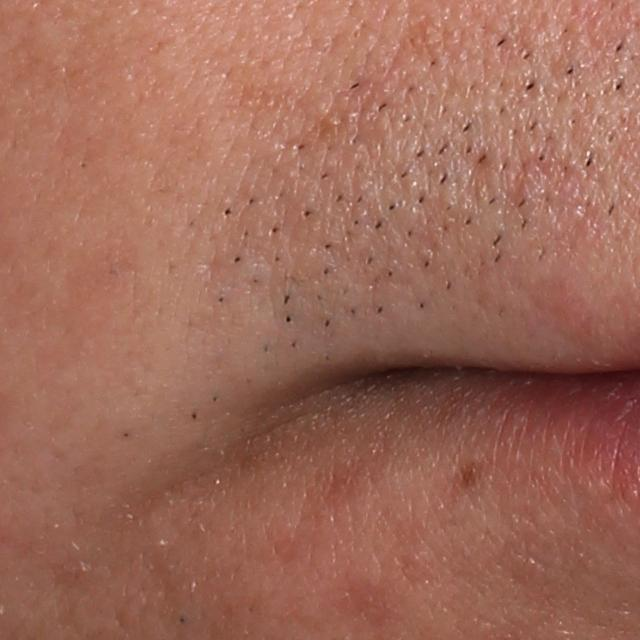nevus: (454, 454, 487, 492)
